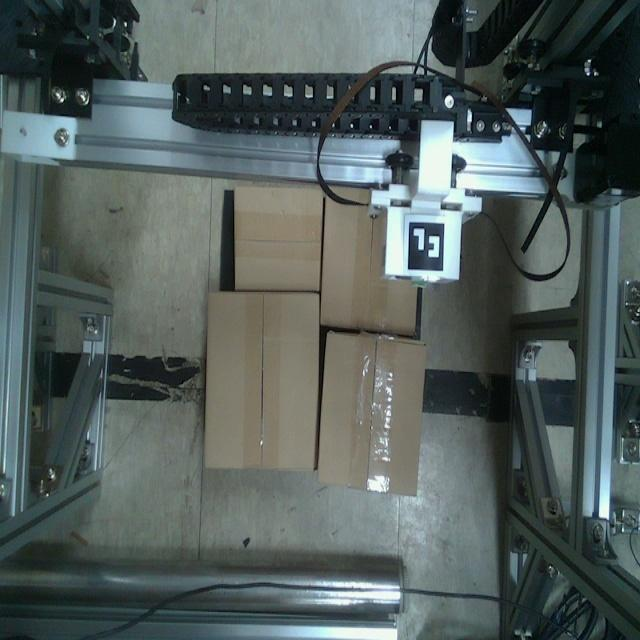box: (201, 289, 322, 476), (316, 328, 428, 498), (230, 184, 326, 295)
